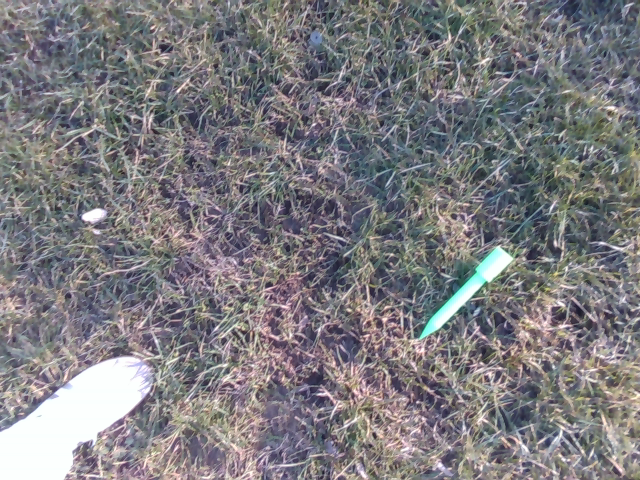Probe: (414, 242, 514, 348)
